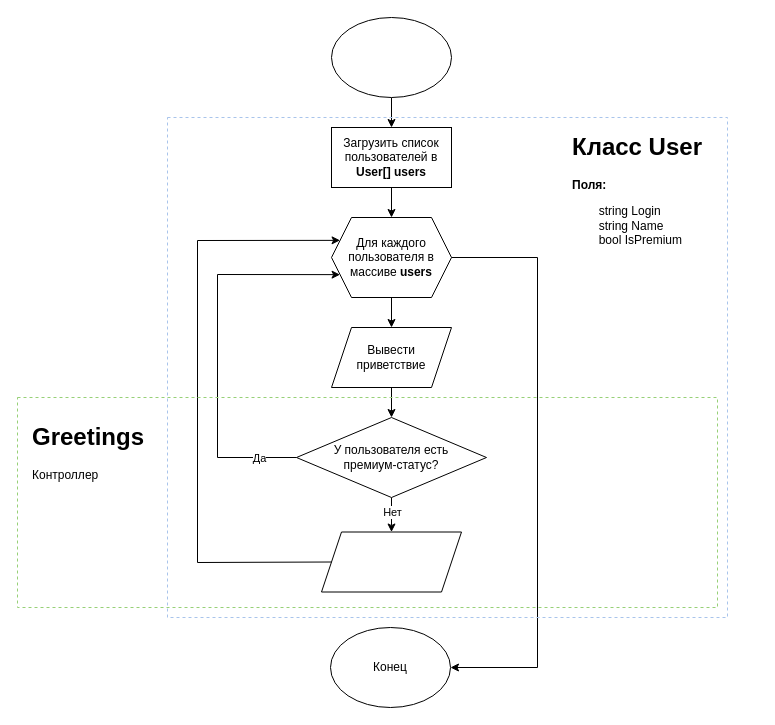
Some shapes in this 775 by 725 pixel diagram are drawn without their labels. Here are the shapes that lost their labels. From the top down, the centre of each, then its label:
the point at 391,57: Начало
the point at 391,561: Показать рекламу
